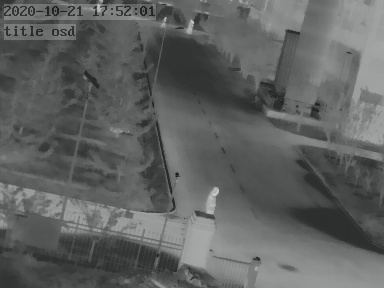person: (206, 186, 220, 217), (186, 17, 194, 35), (160, 15, 167, 28)
